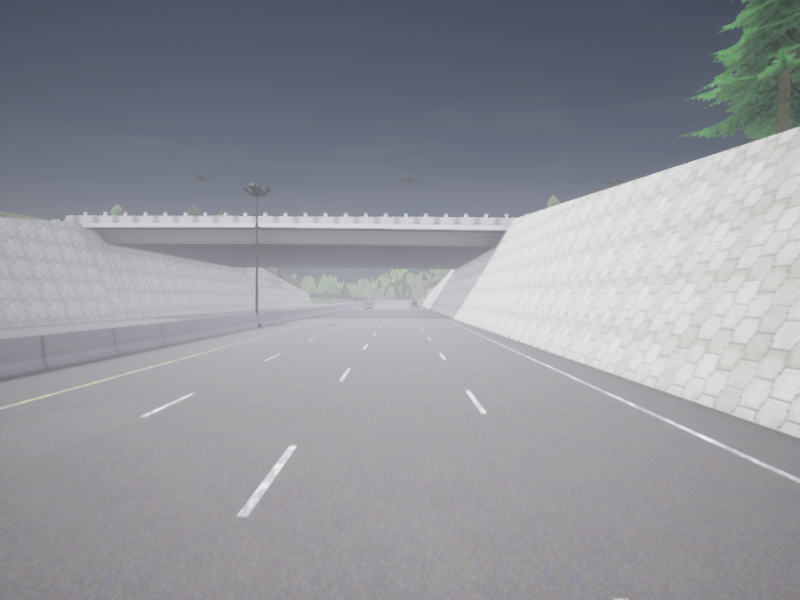vehicle: (365, 302, 372, 309), (410, 301, 417, 307)
